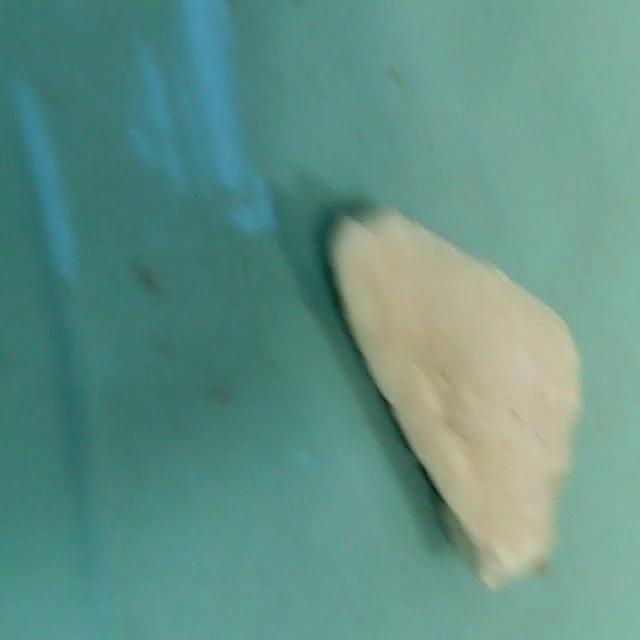rock: (327, 193, 592, 596)
